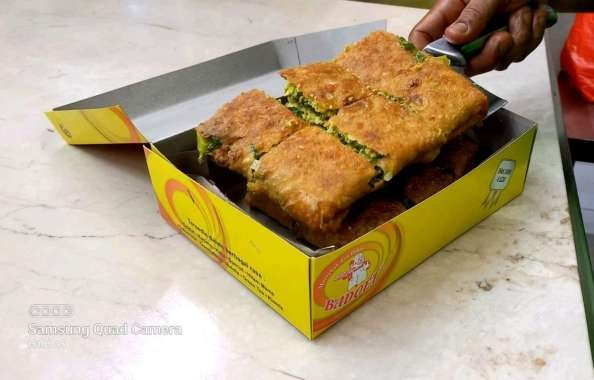martabak: (194, 28, 489, 232)
